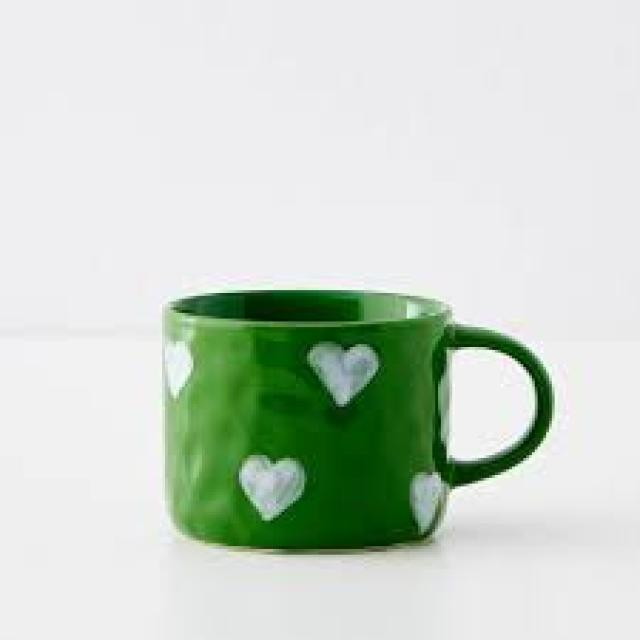taza: (160, 287, 555, 555)
